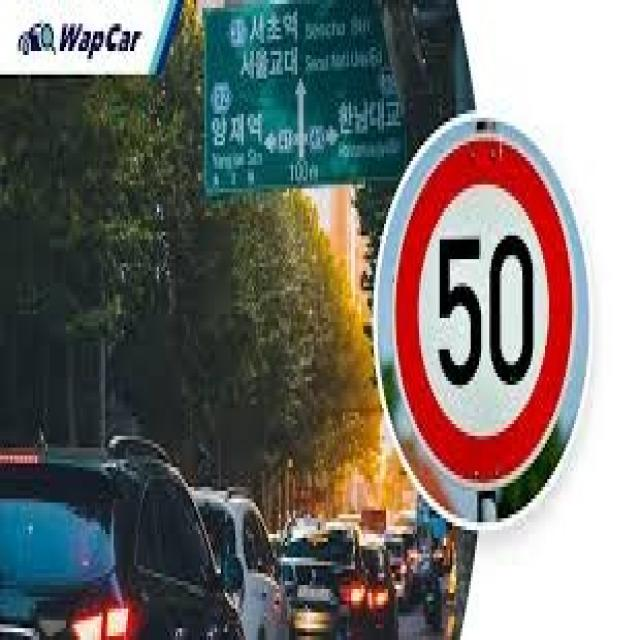speed_limit_50: (387, 122, 581, 494)
